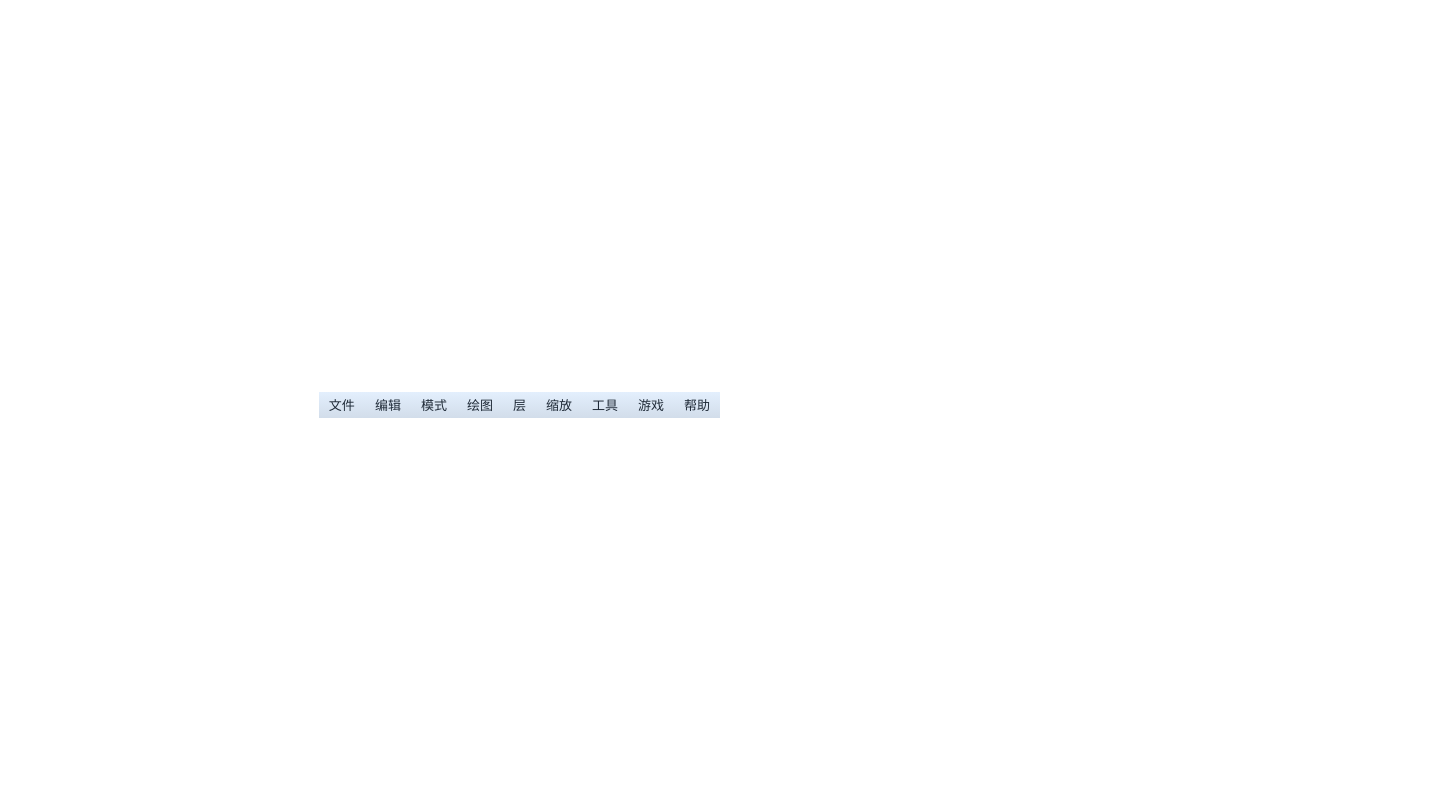
Menu 层菜单:备注编辑/新增/删除 › 备注编辑模式下点击层项弹窗且不触发 select,菜单收起
Click the button with class "menu-dropdown-title" showing "层". click: [519, 405]
box: [503,392,536,418]
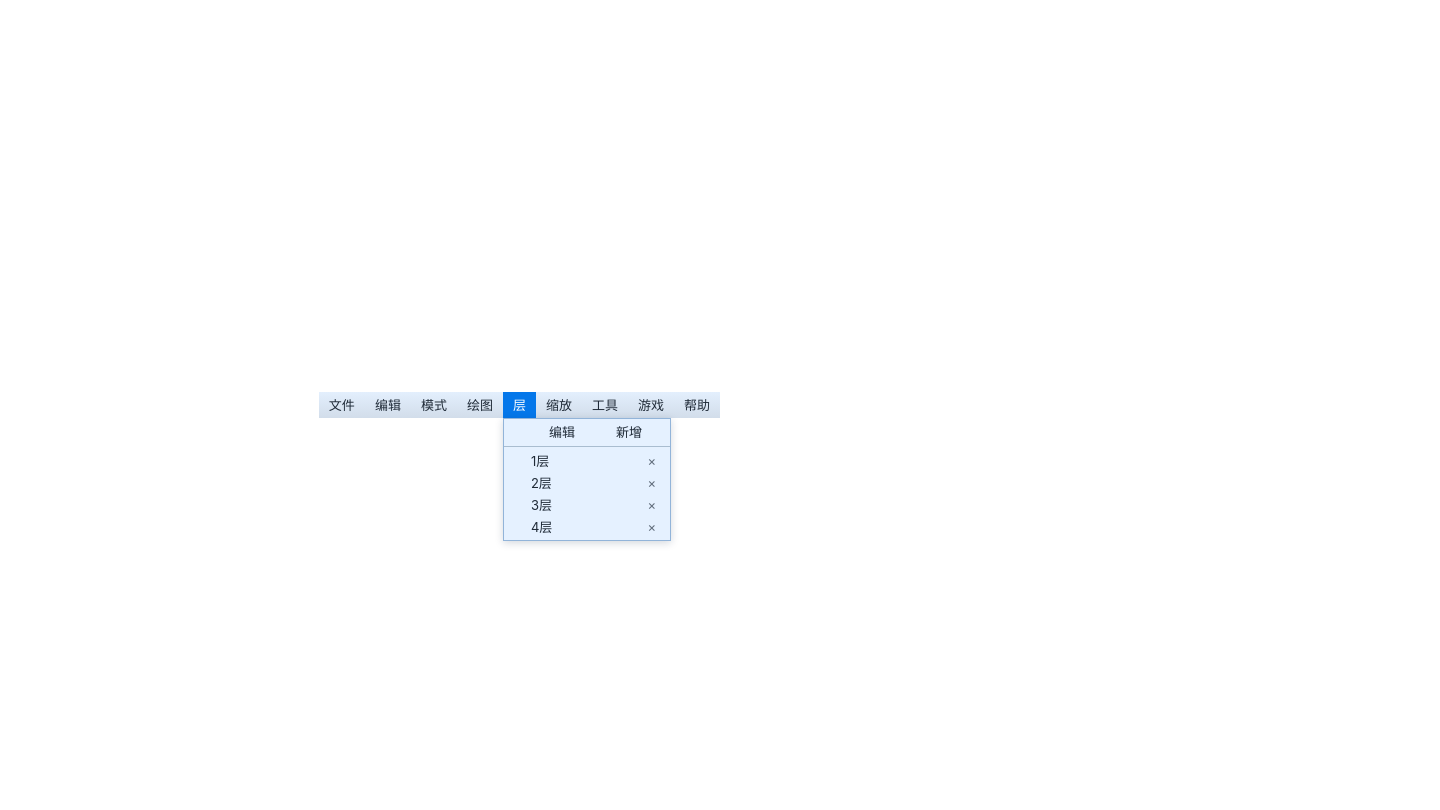
Click the menu item with class "menu-entry" showing "编辑". click: [562, 432]
box: [549,424,575,440]
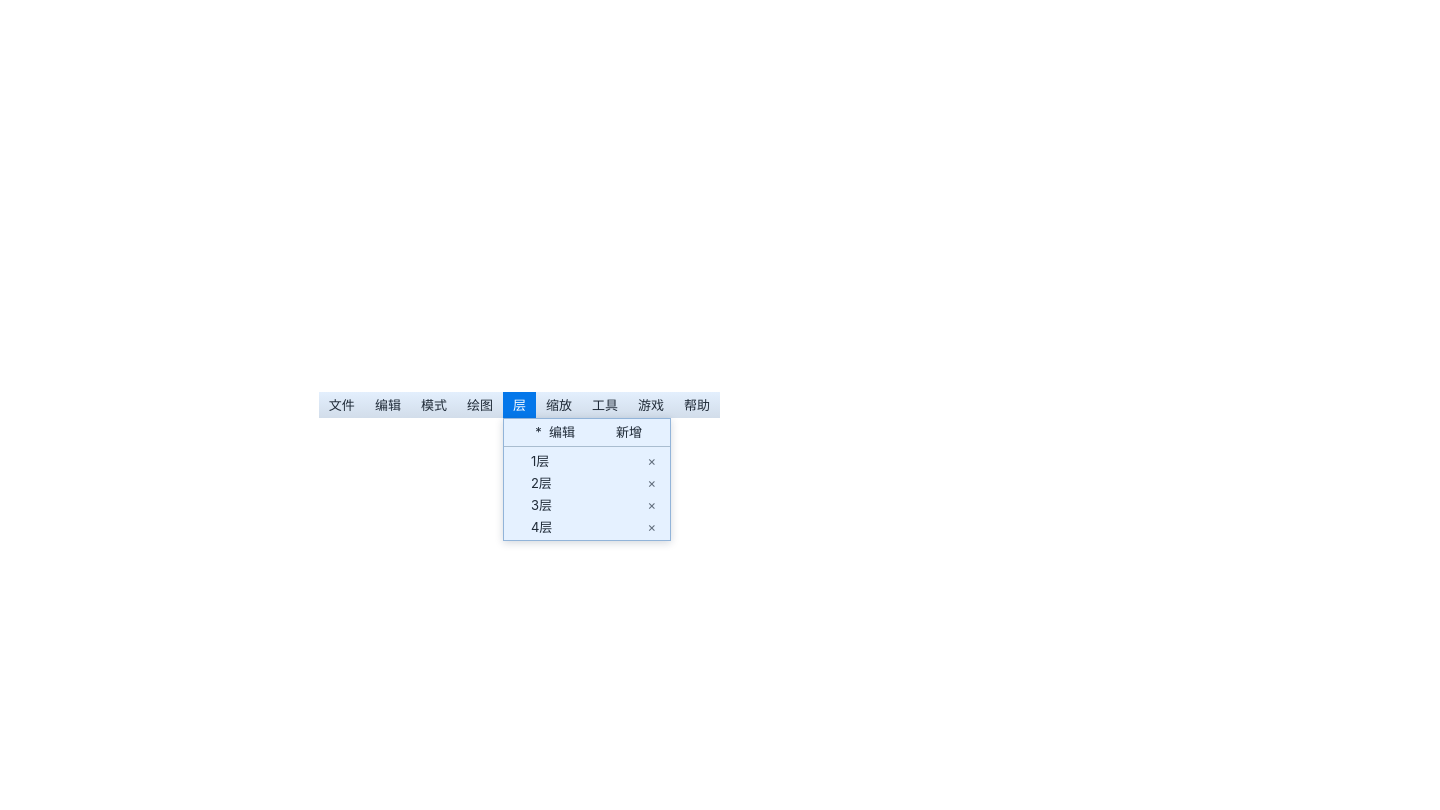
Click the menu item with class "menu-entry" showing "1层 ×". click: [540, 460]
box: [531,452,660,469]
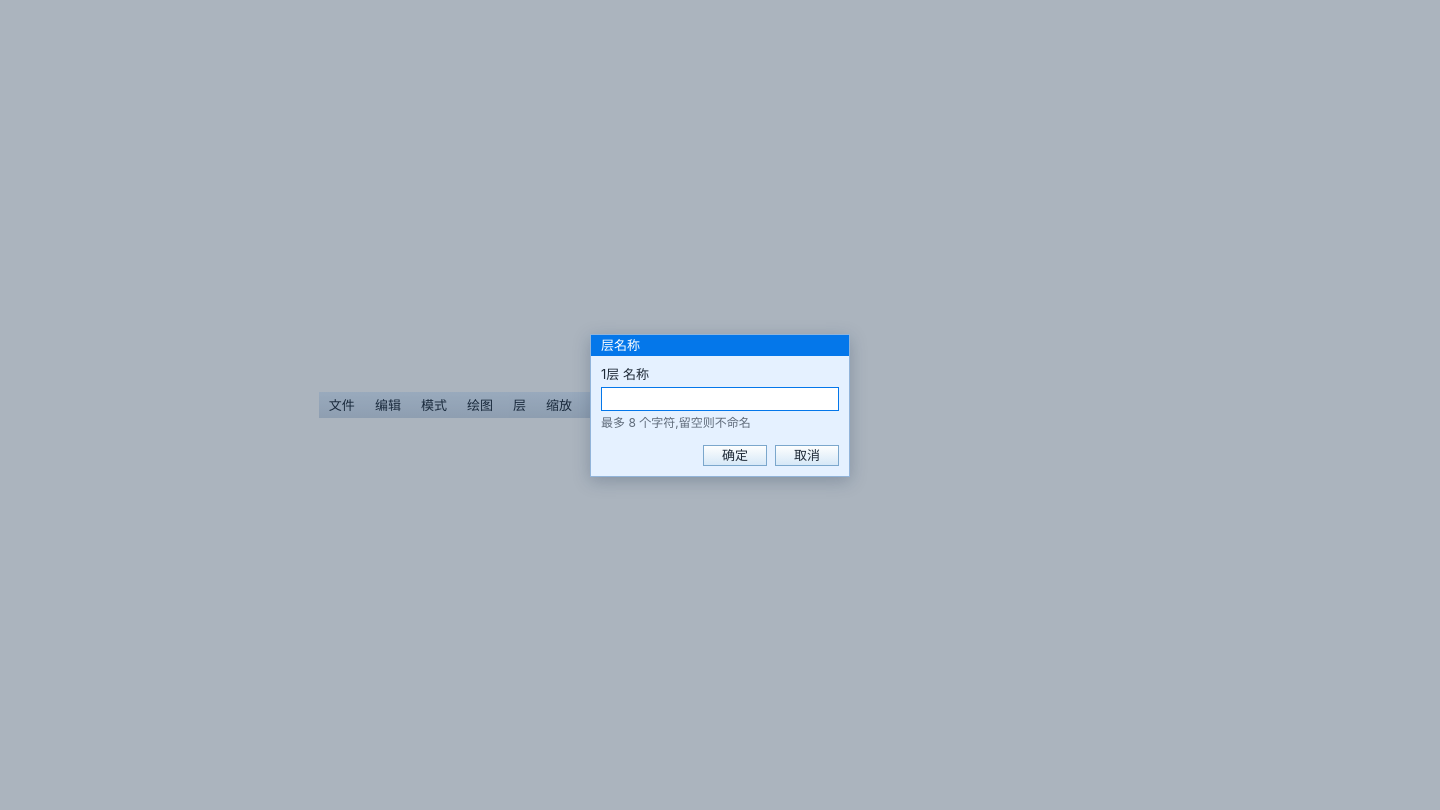
Expected: the dialog with class "layer-name-dialog" is shown, [590,334,850,476]
Expected: the dialog with class "layer-name-dialog" shows "1层 名称", [601,366,649,382]
